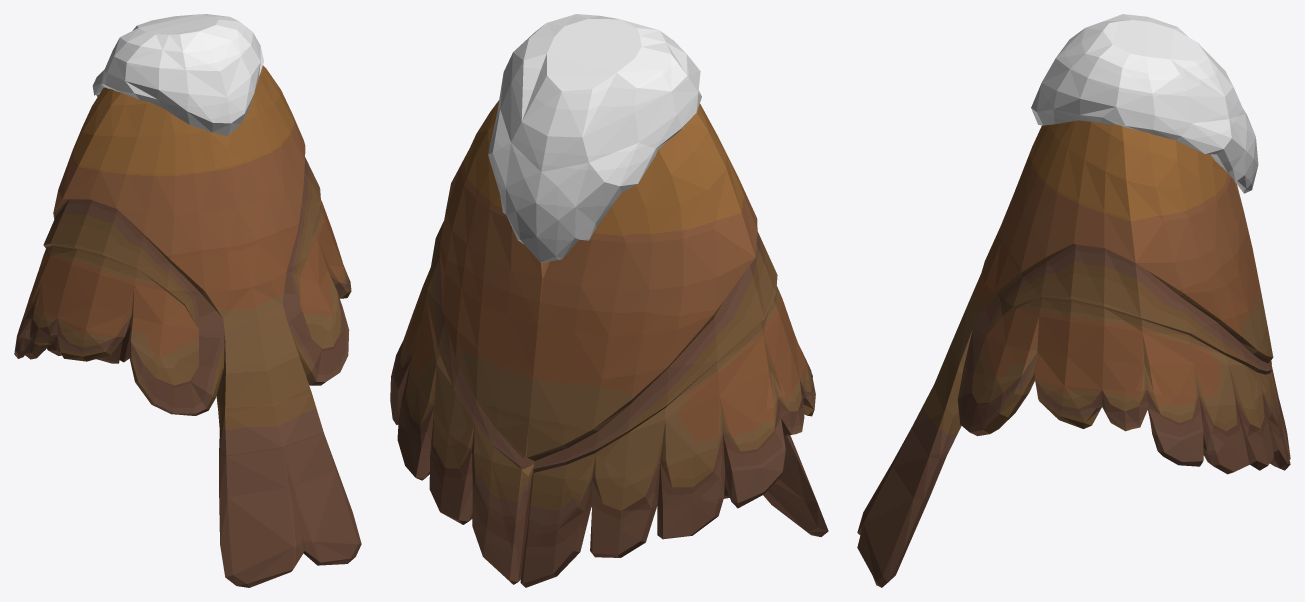
The model's file is CharSkyKid_Wing_Sparrow.glb.
3 renders of one model, left to right at view 1: azimuth 30°, elevation 25°; view 2: azimuth 150°, elevation 25°; view 3: azimuth 270°, elevation 25°, orthographic. The views are drawn at different scales.
Parts seen in each view (by area): view 1: CharSkyKid_Wing_Sparrow; view 2: CharSkyKid_Wing_Sparrow; view 3: CharSkyKid_Wing_Sparrow.
Part boxes in pixels (bbox=[...]): CharSkyKid_Wing_Sparrow: bbox=[14, 14, 361, 587]; CharSkyKid_Wing_Sparrow: bbox=[390, 14, 828, 587]; CharSkyKid_Wing_Sparrow: bbox=[857, 14, 1290, 587].
Bounding box in the file's own units: 6.41 × 9.28 × 6.9.
1 material, 1 textured.
